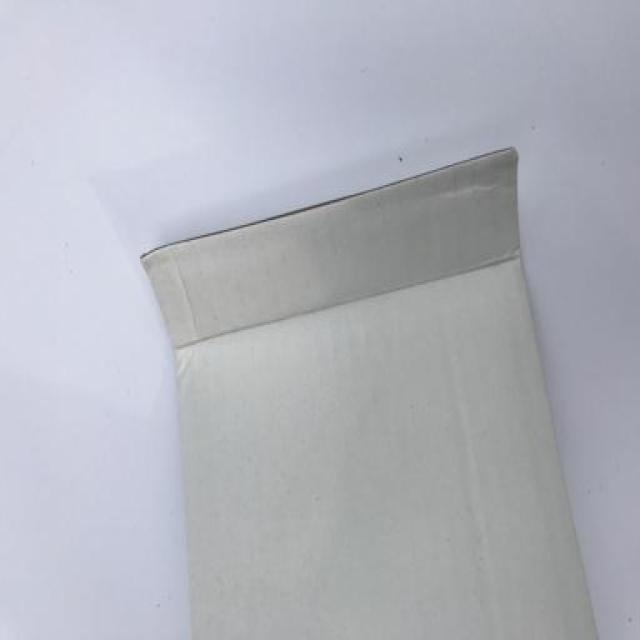Cardboard: (140, 147, 596, 640)
